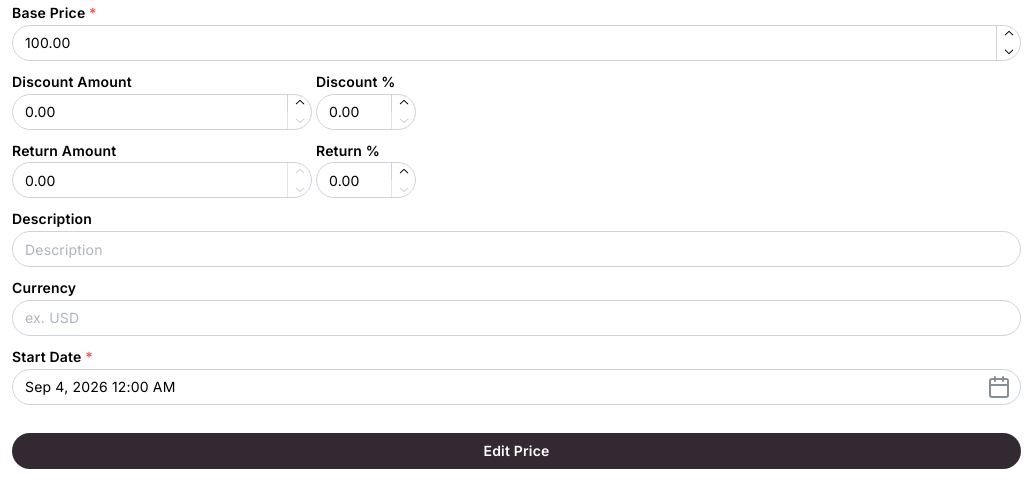
Scenario: Edit Price Form Component › should show the save in progress
Click the button "Edit Price". click: [516, 451]
box: [12,433,1021,469]
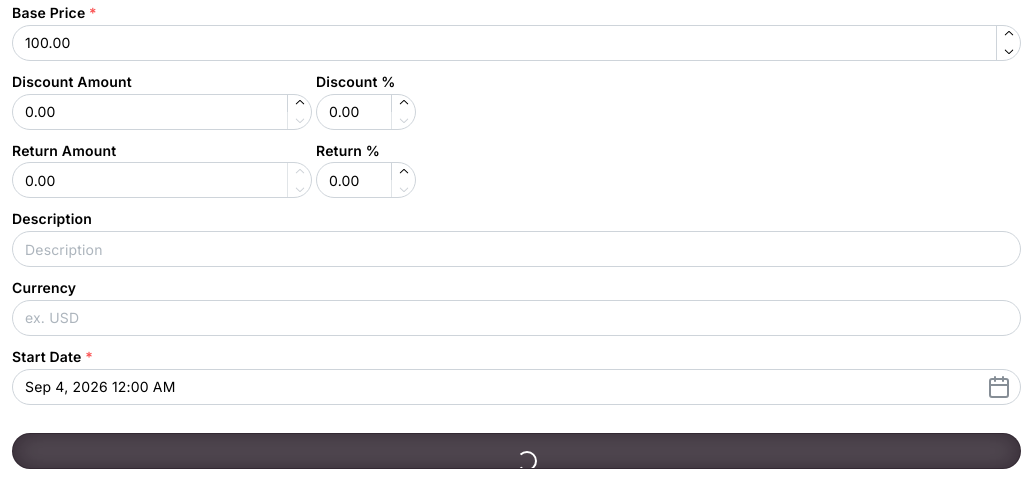
Result: the 11th button named "Edit Price" is disabled at [12,433,1021,469]
